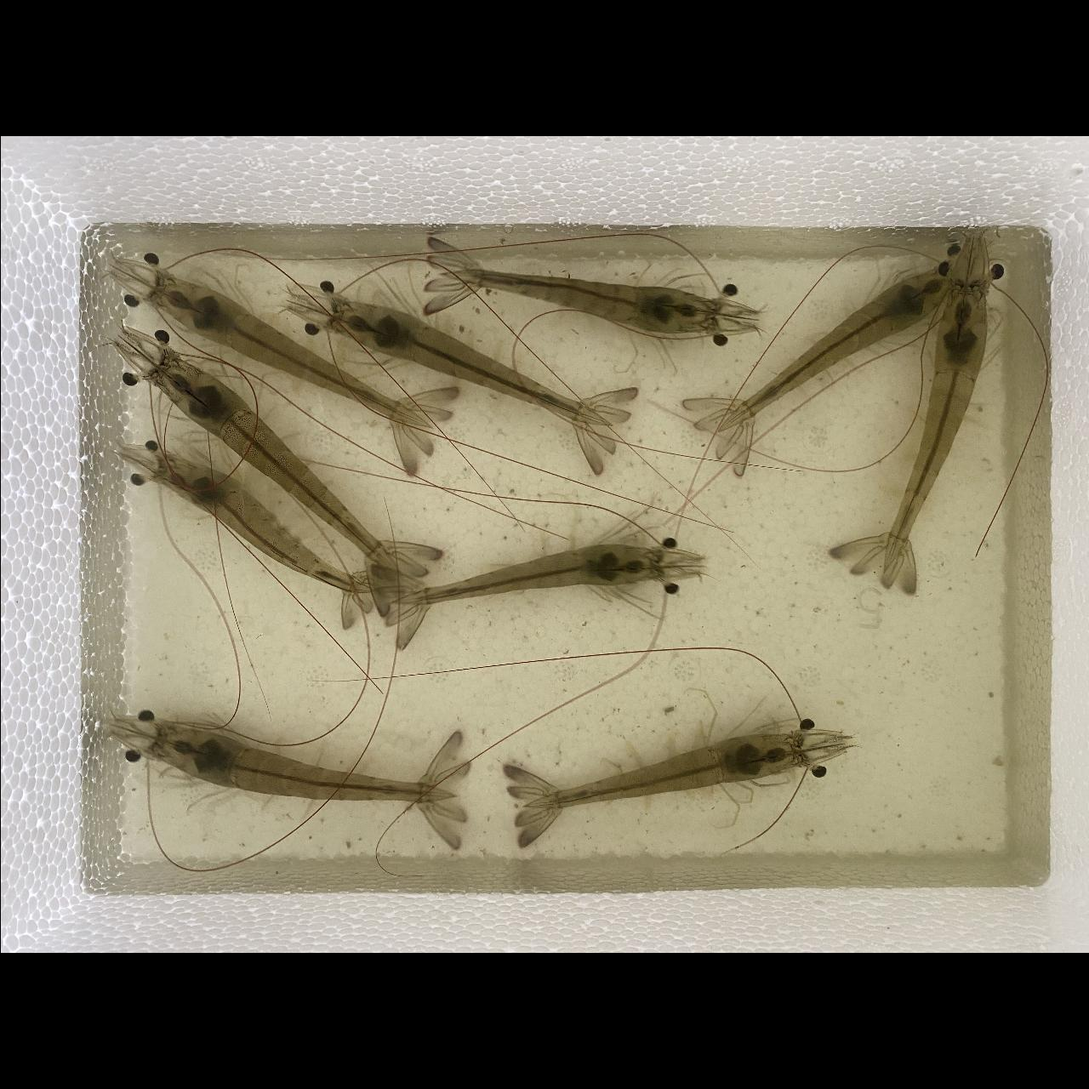top_shrimp: (162, 362, 402, 585), (715, 269, 956, 434), (160, 281, 427, 429), (337, 303, 604, 427), (154, 453, 388, 591), (887, 286, 985, 572), (158, 727, 449, 801), (531, 735, 800, 807), (453, 269, 713, 334), (402, 546, 659, 604)
